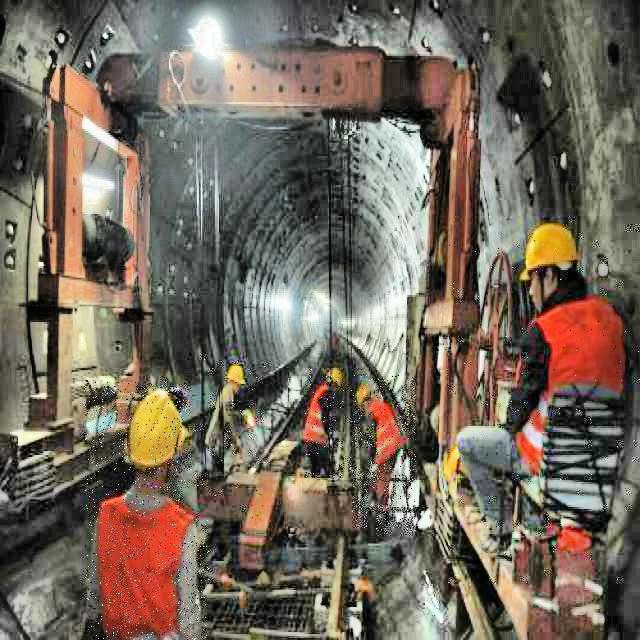safety_helmet: (129, 389, 189, 470), (523, 225, 581, 288), (227, 363, 246, 388), (325, 367, 342, 384), (357, 385, 371, 405)
safety_jacket: (518, 299, 629, 560), (98, 494, 194, 640), (364, 400, 404, 469), (304, 383, 335, 450)
